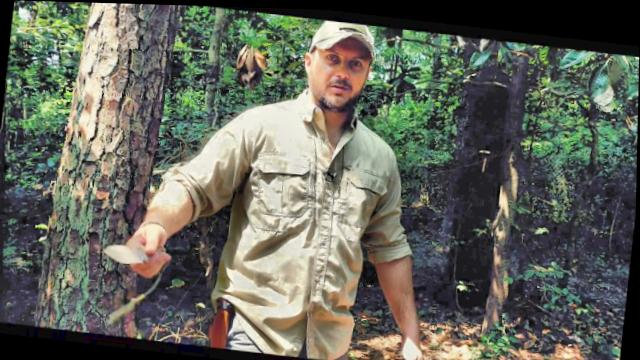knife: (98, 224, 176, 280)
